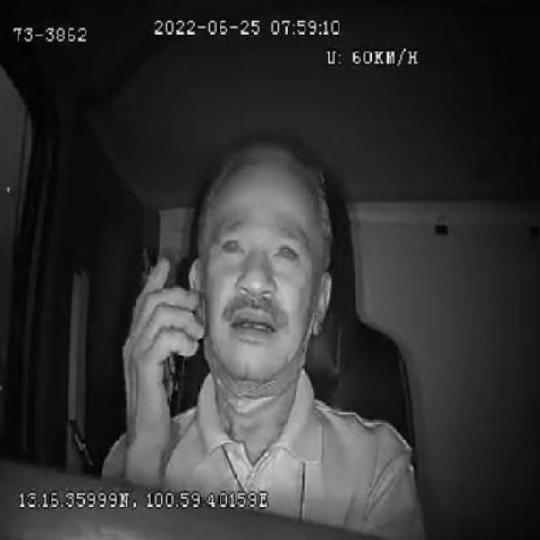phone: (135, 243, 183, 419)
